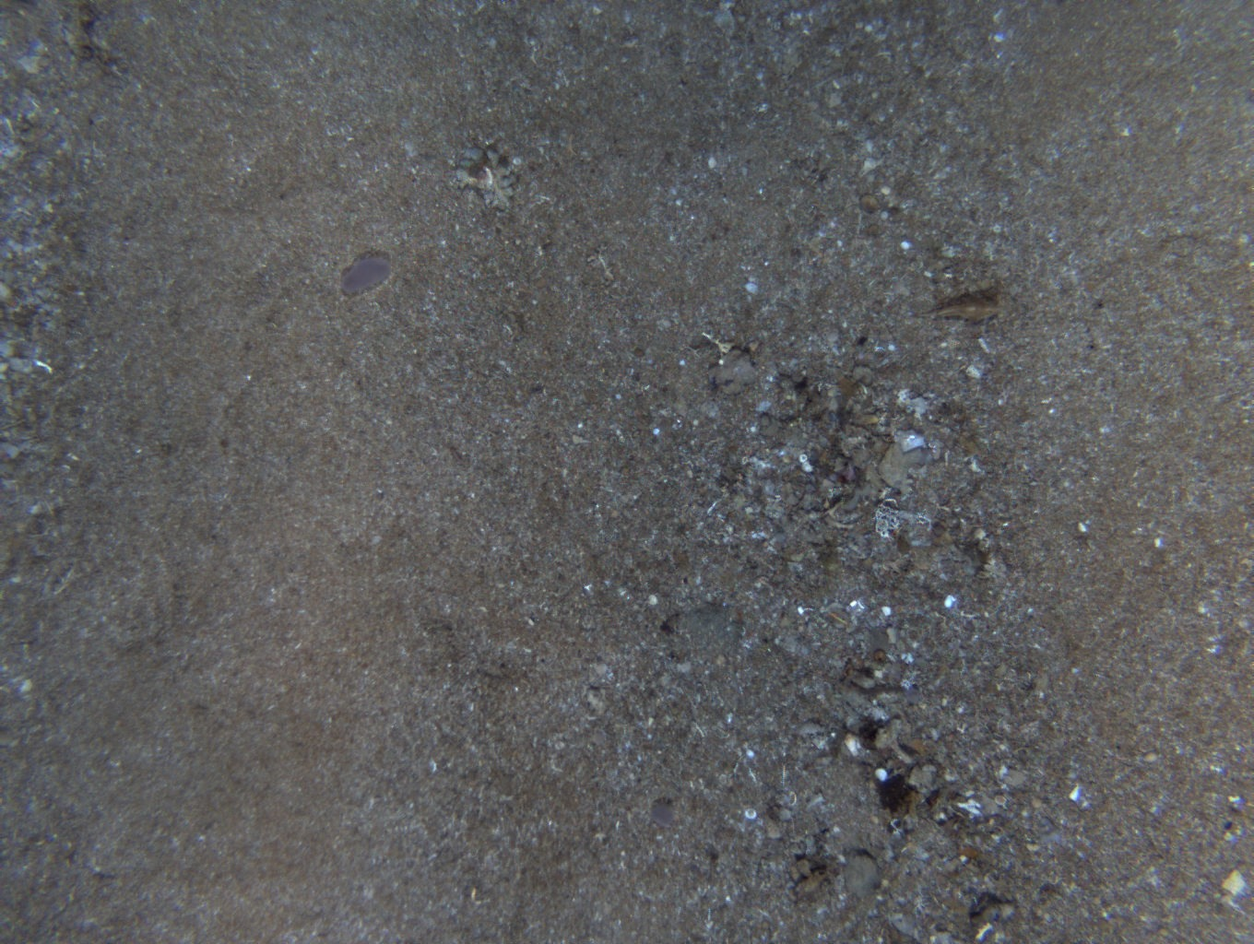Brachionichthyidae: (911, 294, 1002, 327)
